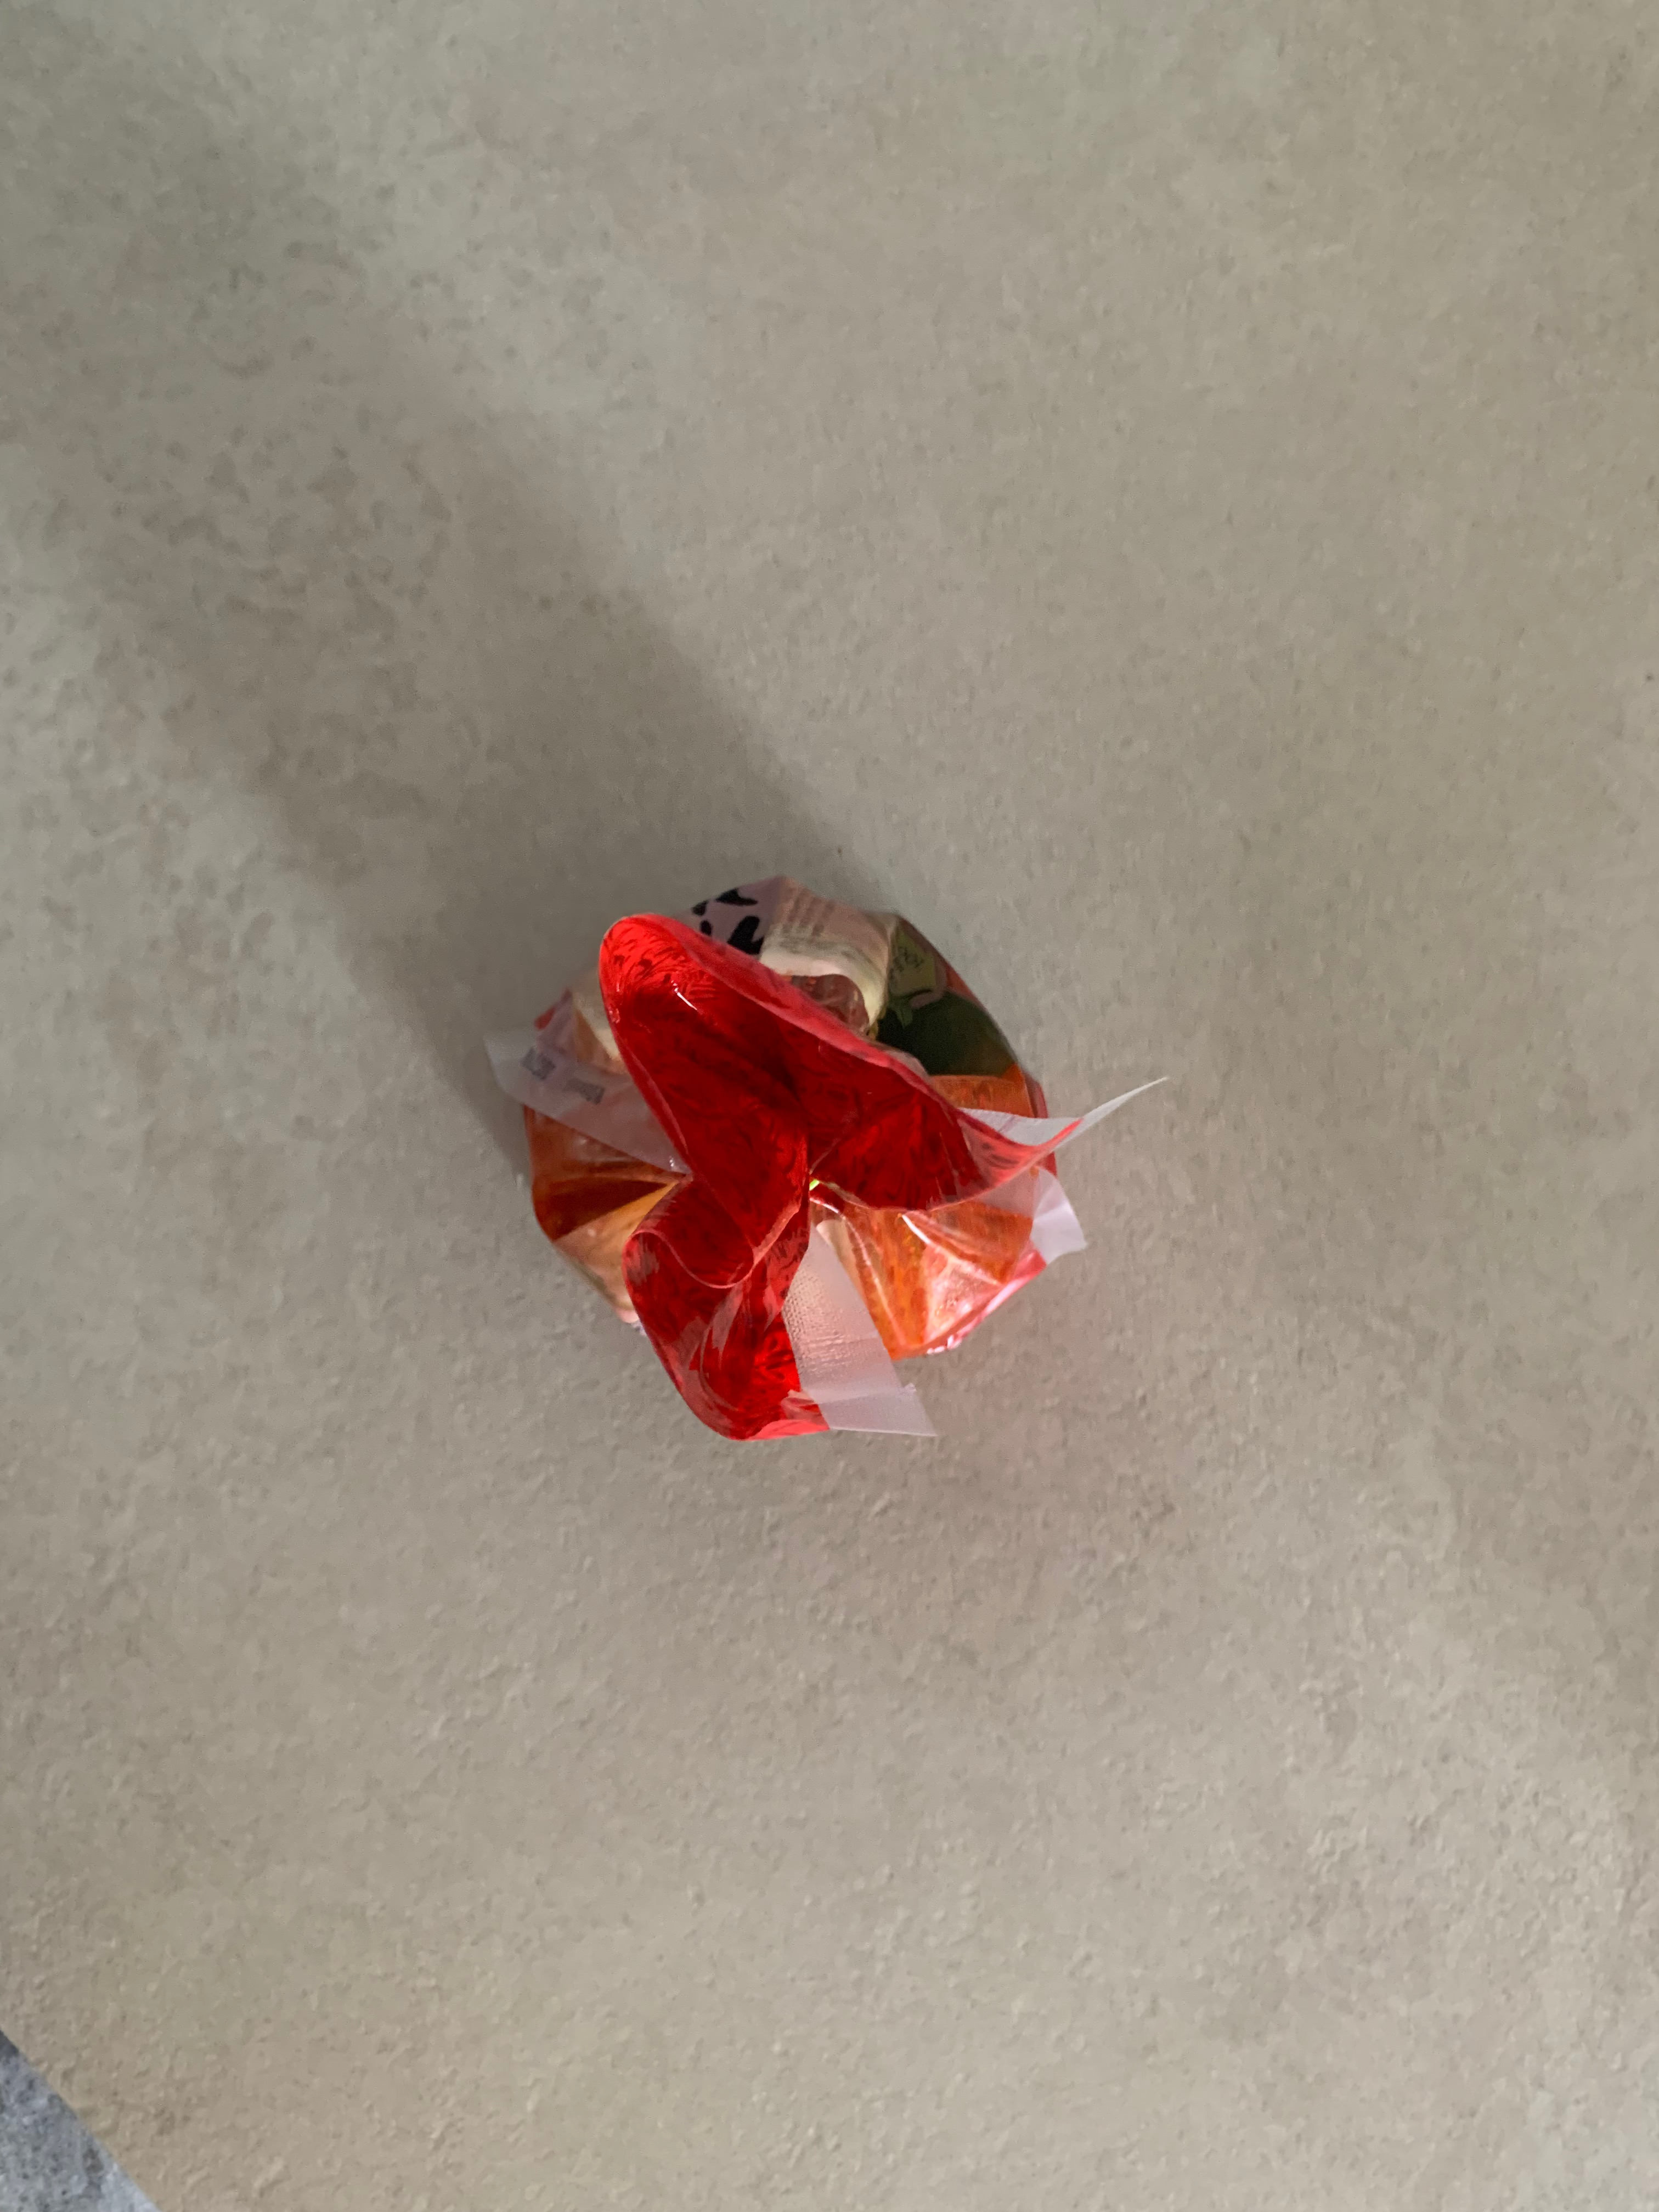kimchi: (514, 876, 1054, 1430)
